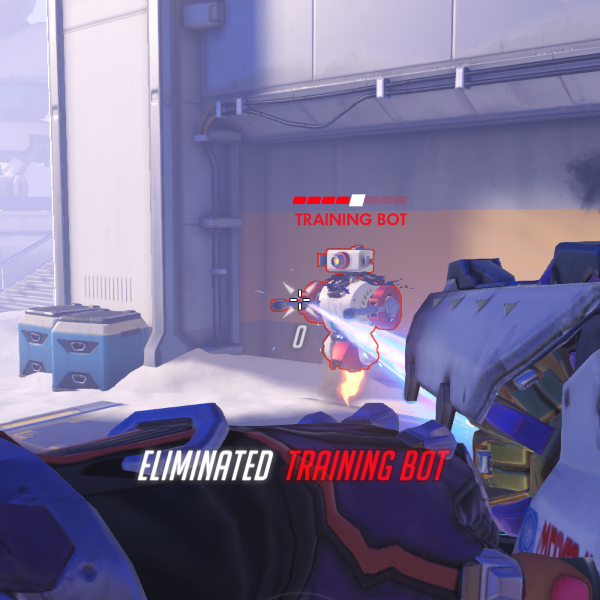hpbar: (292, 196, 409, 206)
